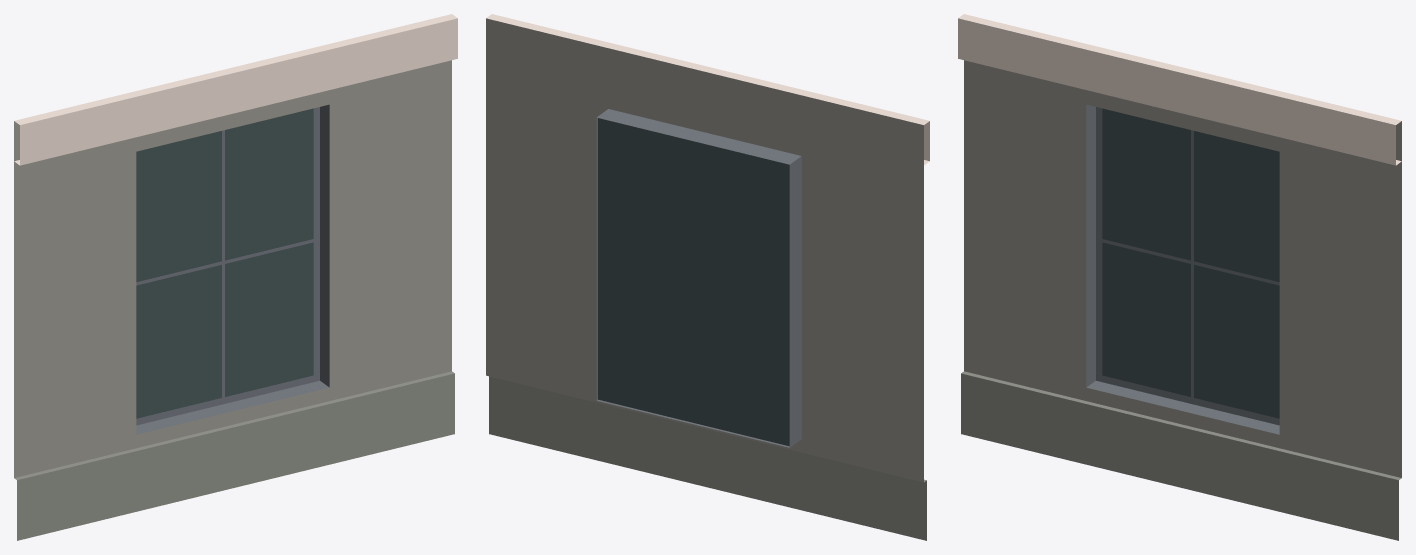
3 renders of one model, left to right at view 1: azimuth 30°, elevation 25°; view 2: azimuth 150°, elevation 25°; view 3: azimuth 330°, elevation 25°, orthographic.
Visible parts, largest first — view 1: a2001/800/base-w1; view 2: a2001/800/base-w1; view 3: a2001/800/base-w1.
Part boxes in pixels (x1,y1,x2,y2): a2001/800/base-w1: (14, 14, 457, 540); a2001/800/base-w1: (486, 14, 929, 540); a2001/800/base-w1: (958, 14, 1401, 540).
Bounding box in the file's own units: 3.4 × 3.1 × 0.24.
